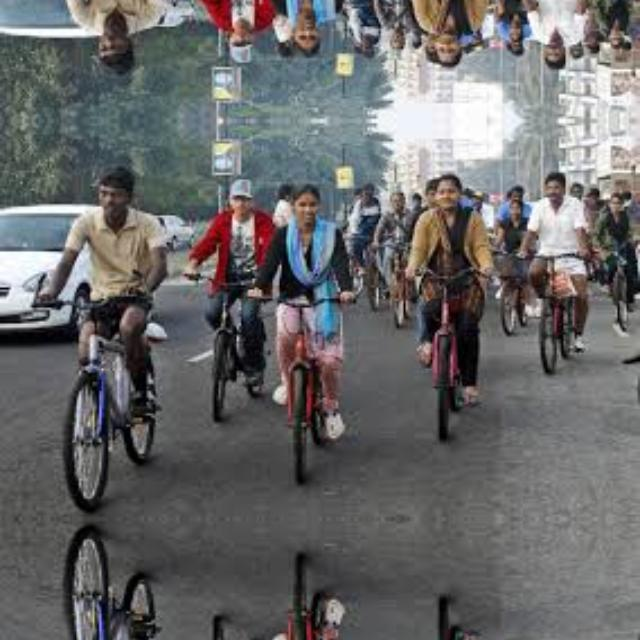person: (68, 166, 172, 367), (404, 153, 492, 327), (272, 185, 342, 338), (210, 170, 260, 340), (404, 0, 492, 87), (68, 0, 171, 74), (530, 156, 582, 252), (530, 0, 581, 84), (272, 0, 342, 54), (209, 0, 260, 70)
